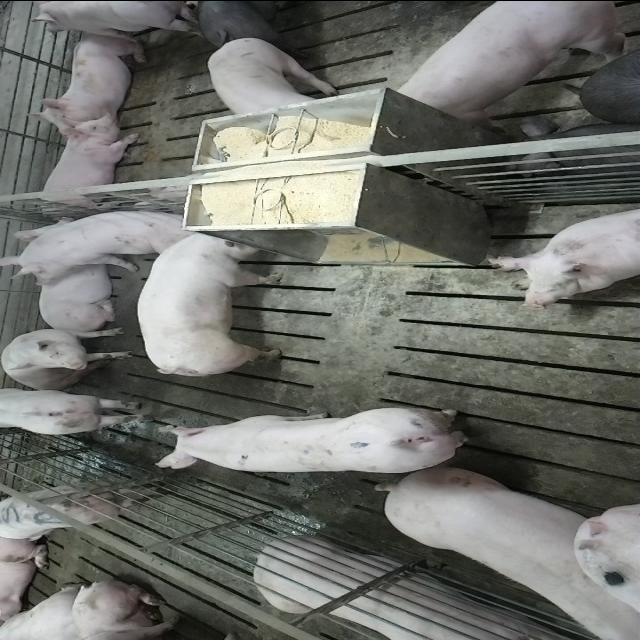Sitting: (0, 206, 186, 282), (1, 325, 132, 389)
Standing: (392, 2, 628, 122), (153, 406, 480, 478), (208, 36, 340, 116), (2, 477, 158, 539), (2, 388, 154, 438), (25, 0, 202, 32), (189, 0, 313, 45)
Sternal_lying: (250, 539, 582, 640), (482, 202, 640, 308), (32, 30, 150, 130), (29, 114, 141, 216), (27, 260, 122, 330)
